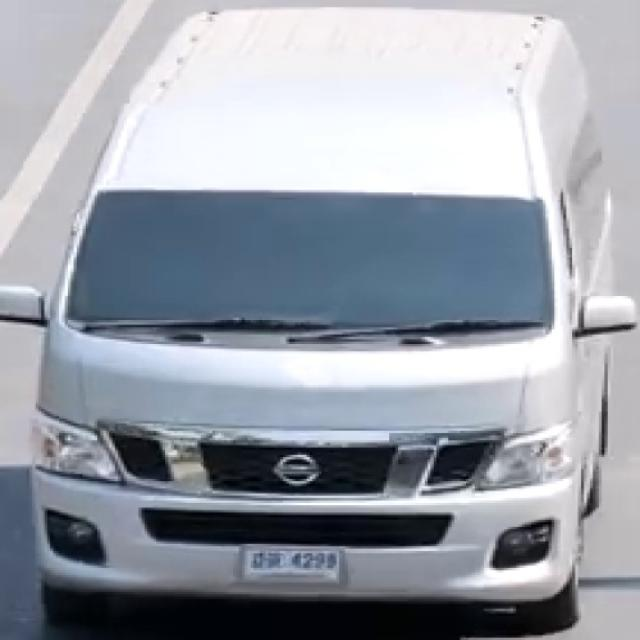plate: (241, 542, 349, 586)
